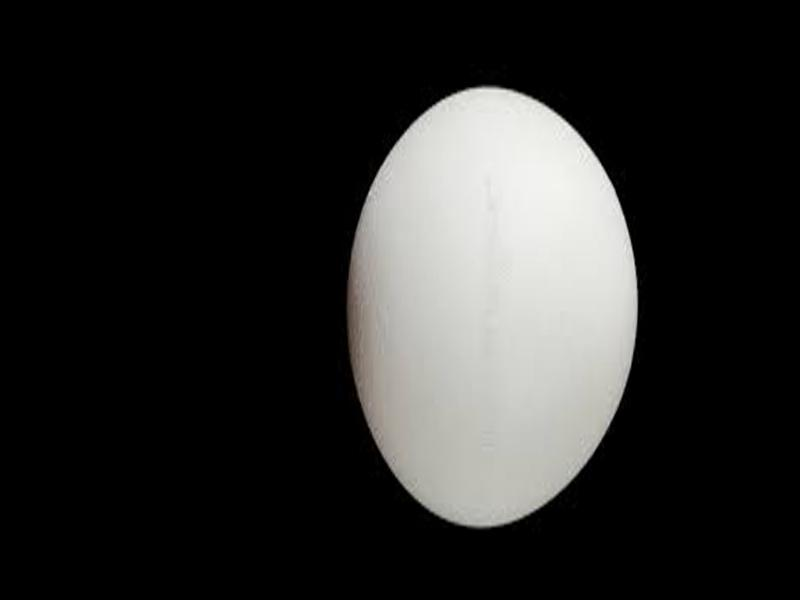Eggs: (338, 80, 643, 530)
